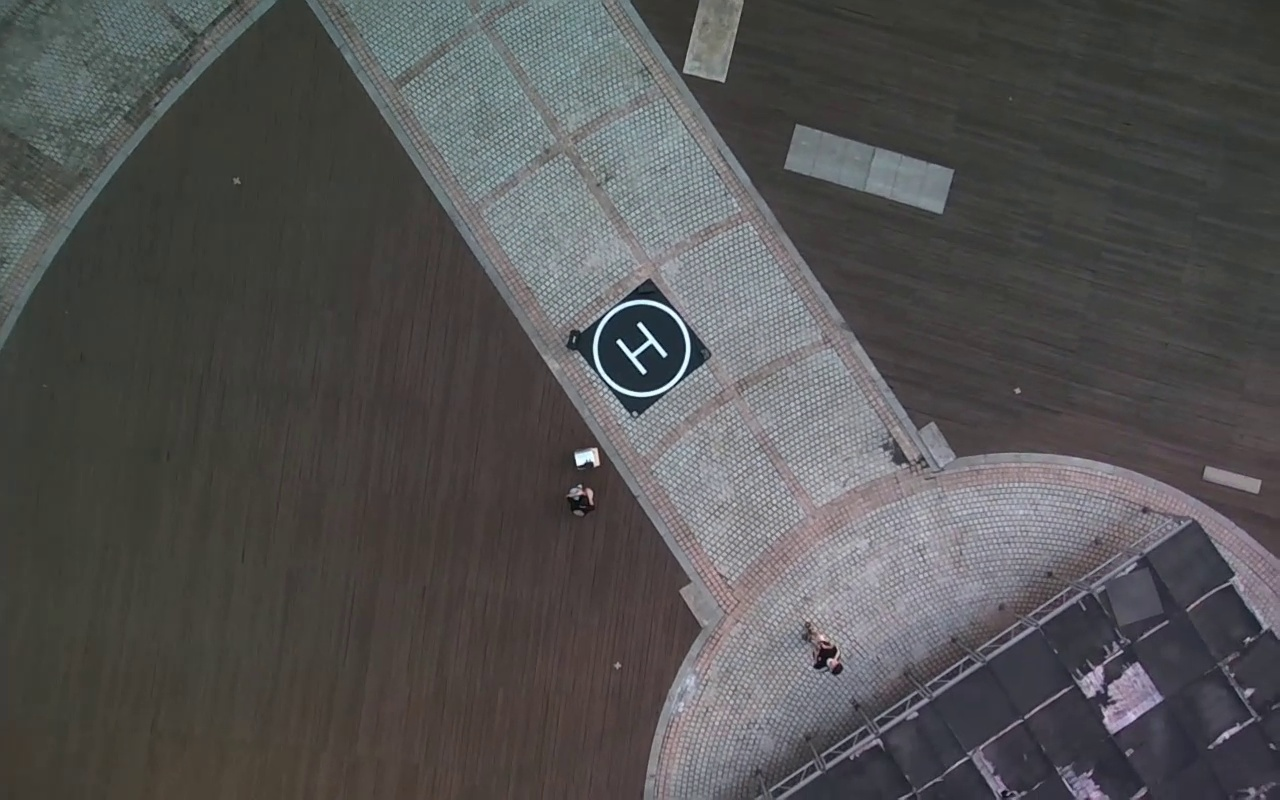H: (615, 321, 669, 378)
heliport: (589, 296, 694, 397)
